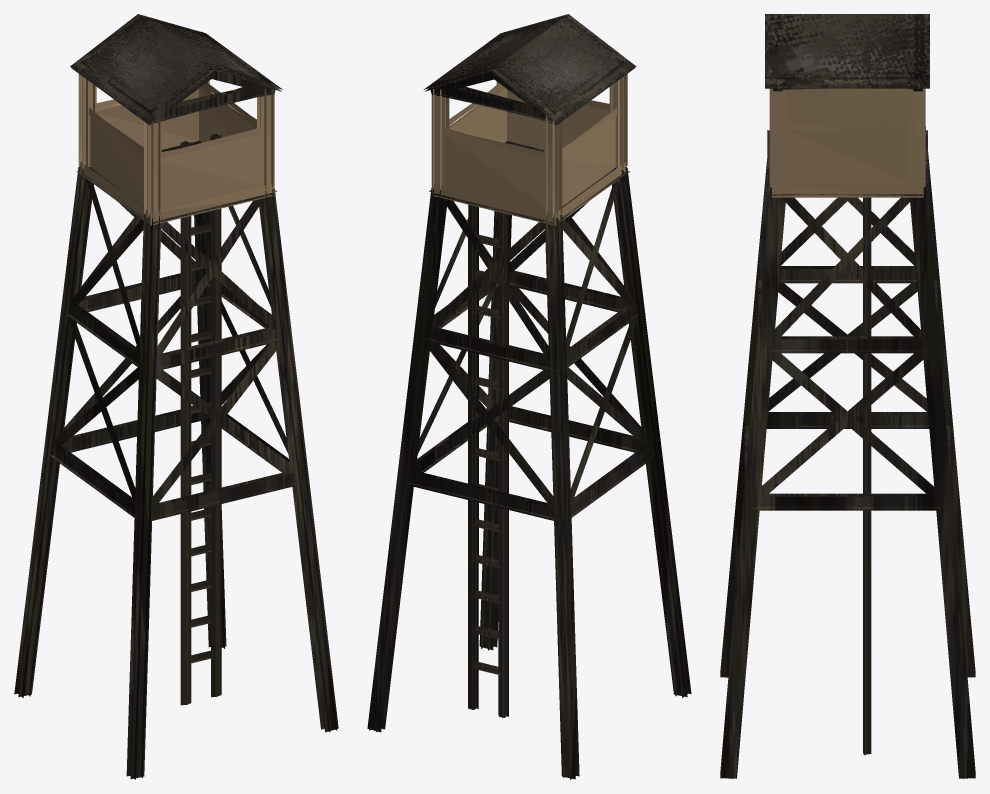
Rendered from large_tower_cgtrader_watchtower_edited.glb.
3 views of the same model, side by side, from view 1: azimuth 30°, elevation 25°; view 2: azimuth 150°, elevation 25°; view 3: azimuth 270°, elevation 25° (orthographic). The views are drawn at different scales.
Visible parts, largest first — view 1: part_0, part_1; view 2: part_0, part_1; view 3: part_0, part_1.
Part boxes in pixels (bbox=[...]): part_0: bbox=[14, 14, 338, 779]; part_1: bbox=[78, 74, 274, 225]; part_0: bbox=[367, 14, 691, 779]; part_1: bbox=[431, 74, 627, 225]; part_0: bbox=[720, 14, 975, 779]; part_1: bbox=[769, 88, 925, 197].
Bounding box in the file's own units: 1 × 3.08 × 0.9996.
Materials: 1 (1 with a texture image).
